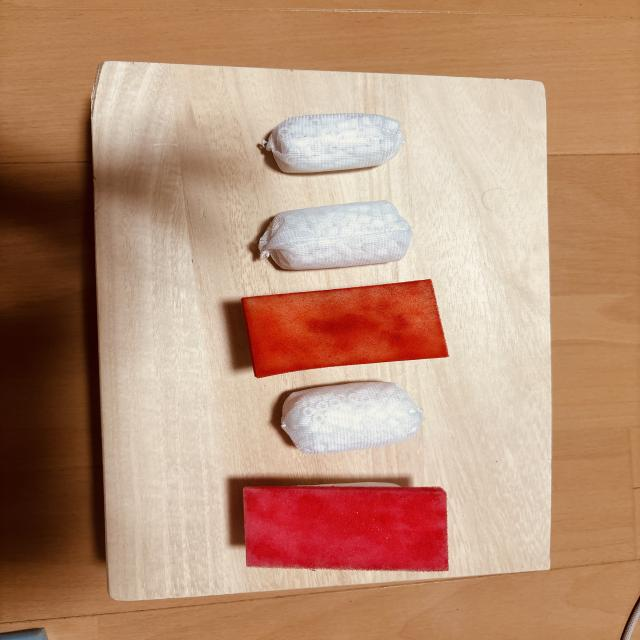NG: (259, 200, 412, 270), (282, 382, 422, 454), (263, 113, 403, 173)
maguro: (244, 483, 448, 571)
salmon: (242, 280, 448, 378)
